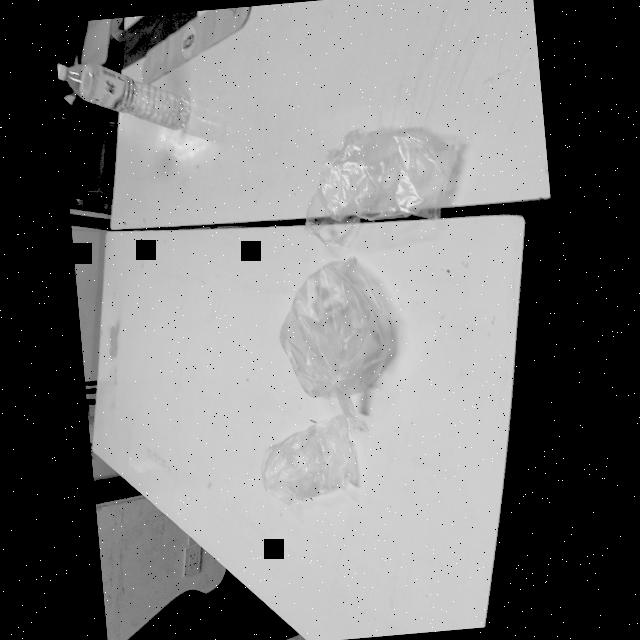plastic_bag: (272, 249, 404, 418), (294, 118, 468, 246), (254, 412, 370, 506)
